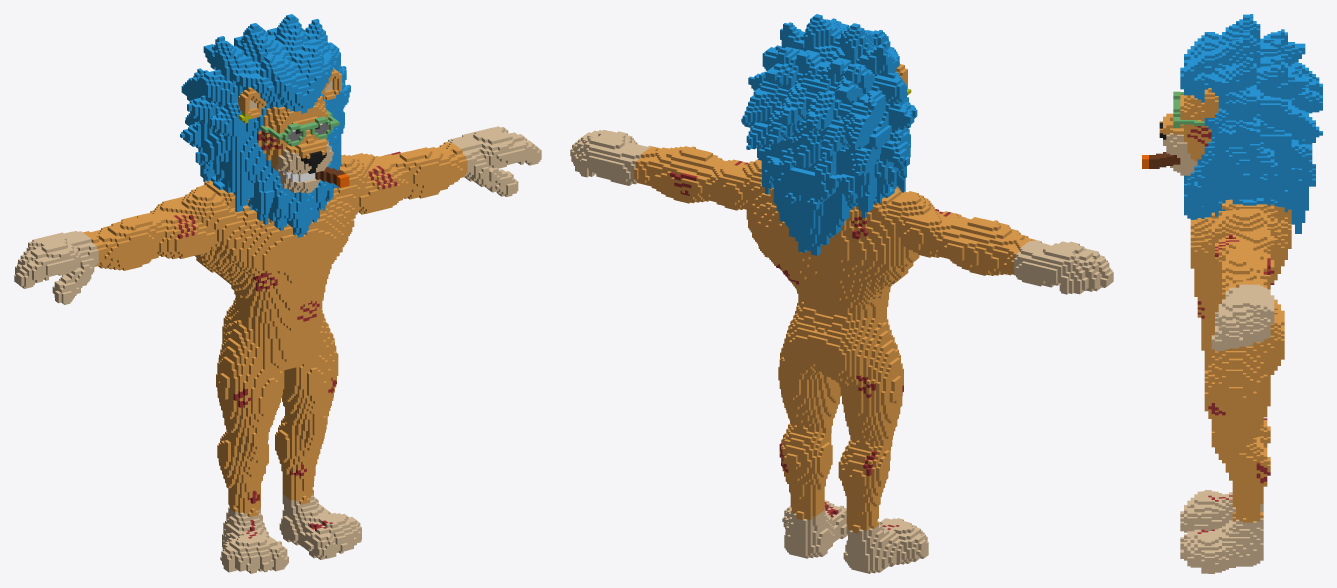
The picture shows the model from 3 angles, left to right: view 1: azimuth 30°, elevation 25°; view 2: azimuth 150°, elevation 25°; view 3: azimuth 270°, elevation 25°; orthographic projection. The views are drawn at different scales.
Parts seen in each view (by area): view 1: cigar; view 2: cigar; view 3: cigar.
Boxes of the visible parts, bbox=[...] form: cigar: bbox=[14, 14, 541, 573]; cigar: bbox=[570, 14, 1113, 573]; cigar: bbox=[1142, 14, 1322, 573].
Bounding box in the file's own units: 17.2 × 16.5 × 5.2.
Materials: 5 (5 with a texture image).
